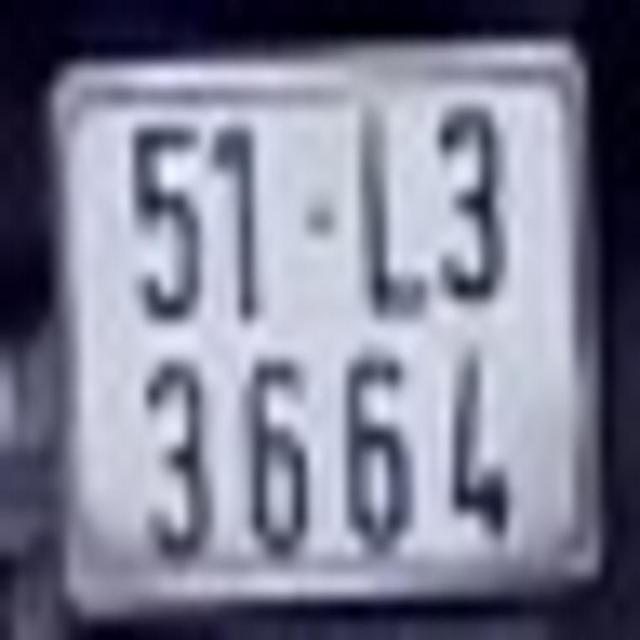1: (212, 127, 269, 322)
3: (141, 352, 215, 562), (439, 96, 501, 303)
4: (440, 322, 510, 538)
5: (127, 114, 209, 329)
6: (330, 346, 419, 553), (244, 343, 314, 552)
L: (354, 98, 432, 320)
